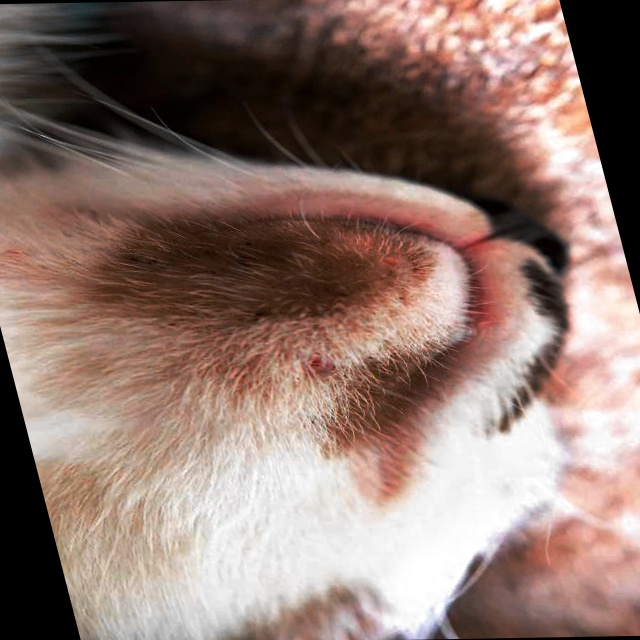acne: (100, 215, 354, 343)
